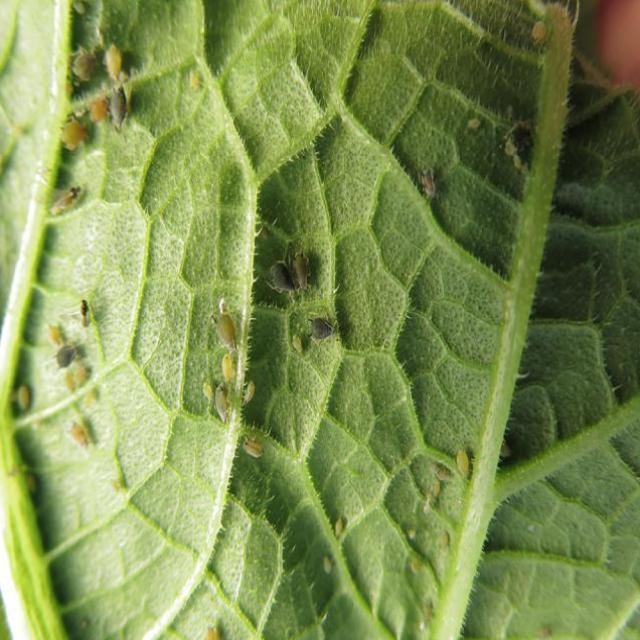Aphids: (182, 291, 280, 472), (52, 22, 160, 158), (399, 436, 483, 589), (44, 293, 120, 462), (311, 508, 361, 604), (269, 234, 327, 300), (396, 157, 462, 211), (298, 316, 352, 366), (524, 8, 559, 56), (102, 238, 106, 240)
